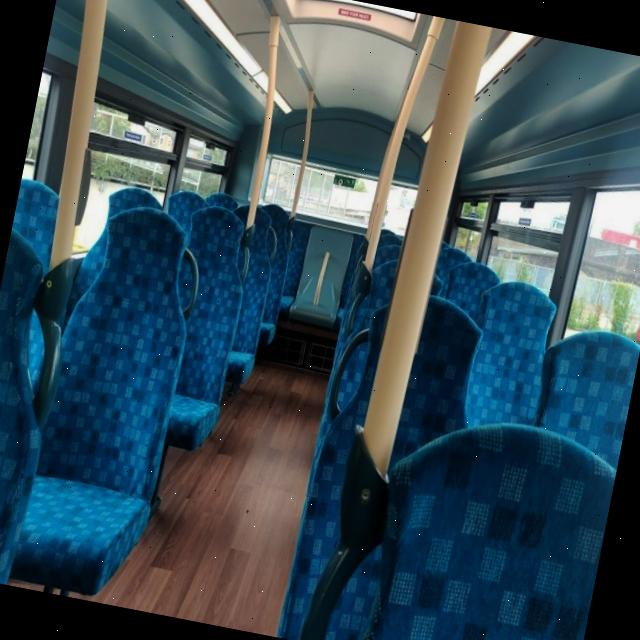empty-seat-frontal: (0, 187, 211, 605)
